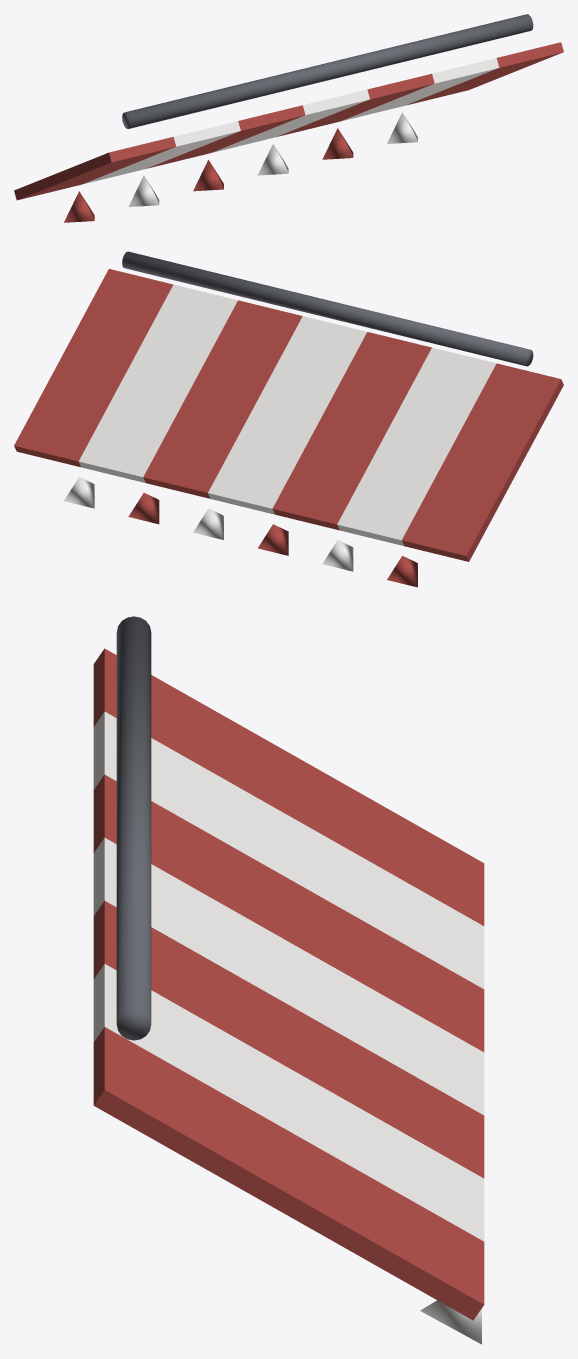
The model's file is prop_tent_awning.glb.
3 renders of one model, top to bottom at view 1: azimuth 30°, elevation 25°; view 2: azimuth 150°, elevation 25°; view 3: azimuth 270°, elevation 25°, orthographic. The views are drawn at different scales.
Parts seen in each view (by area): view 1: tent_awning; view 2: tent_awning; view 3: tent_awning.
Part boxes in pixels (bbox=[...]): tent_awning: bbox=[14, 14, 563, 222]; tent_awning: bbox=[14, 251, 563, 587]; tent_awning: bbox=[93, 616, 484, 1344].
Size of the model in its own units: 3.03 by 1.15 by 1.13.
